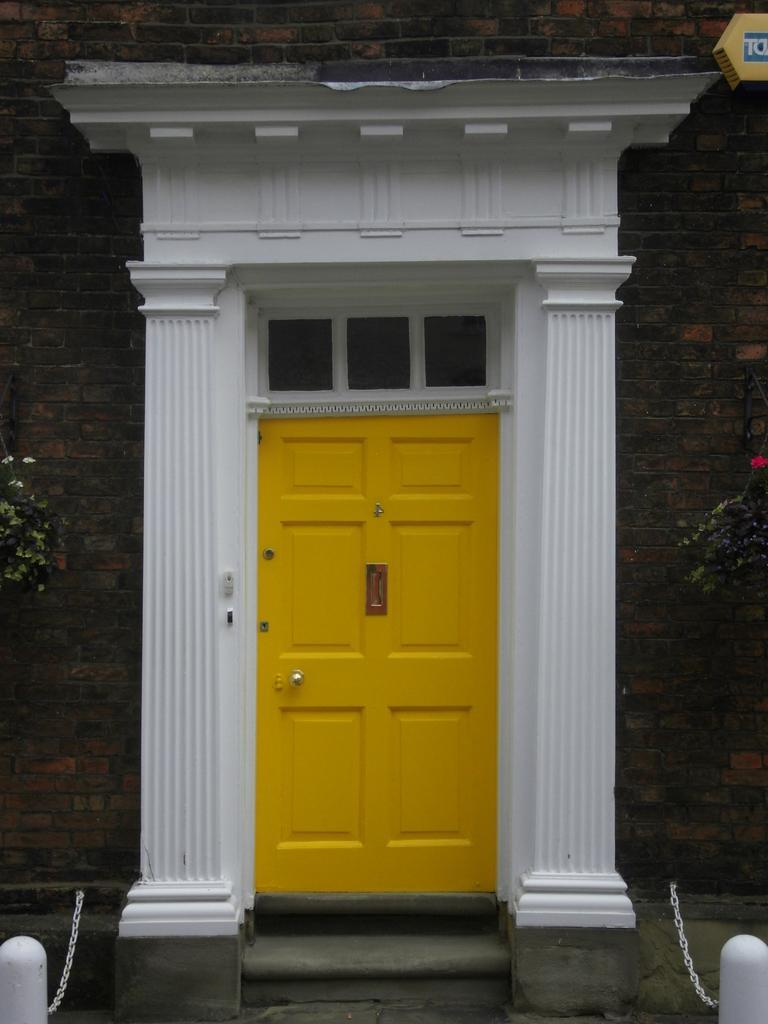door: (255, 415, 494, 893)
handle: (288, 656, 310, 706)
